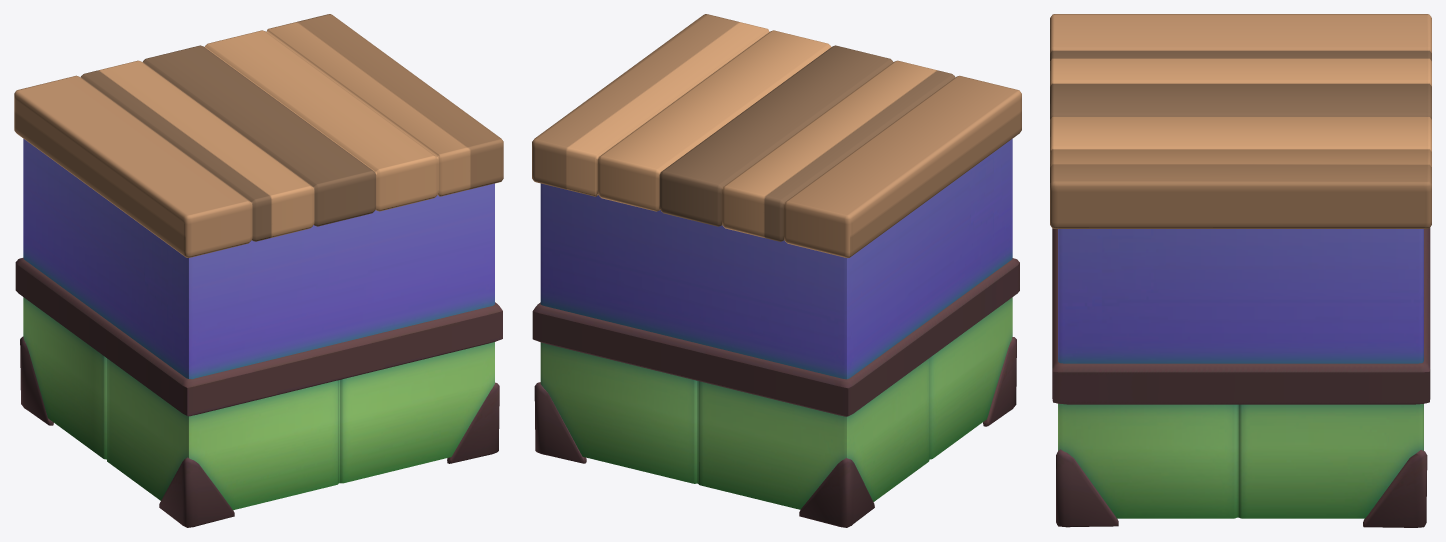
File: HoopsBox3.fbx
3 renders of one model, left to right at view 1: azimuth 30°, elevation 25°; view 2: azimuth 150°, elevation 25°; view 3: azimuth 270°, elevation 25°, orthographic. The views are drawn at different scales.
Parts seen in each view (by area): view 1: ENV_S02_MovableBox_MO_0, ENV_S02_MovableBox_MO_1; view 2: ENV_S02_MovableBox_MO_0, ENV_S02_MovableBox_MO_1; view 3: ENV_S02_MovableBox_MO_0, ENV_S02_MovableBox_MO_1.
Part boxes in pixels (x1,y1,x2,y2): ENV_S02_MovableBox_MO_0: (15,139,502,527); ENV_S02_MovableBox_MO_1: (14,14,503,257); ENV_S02_MovableBox_MO_0: (532,139,1019,527); ENV_S02_MovableBox_MO_1: (532,14,1021,258); ENV_S02_MovableBox_MO_0: (1052,227,1430,527); ENV_S02_MovableBox_MO_1: (1050,14,1431,228).
Bounding box in the file's own units: 12.3 × 11.61 × 11.63.
